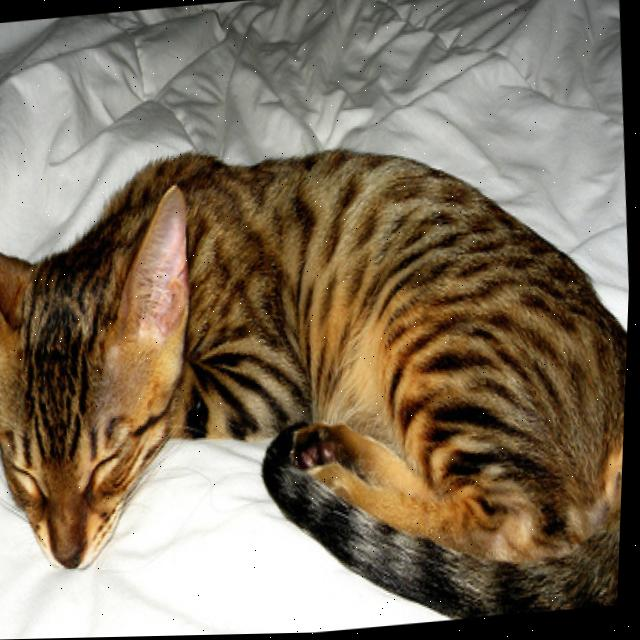Bengal: (0, 103, 637, 640)
